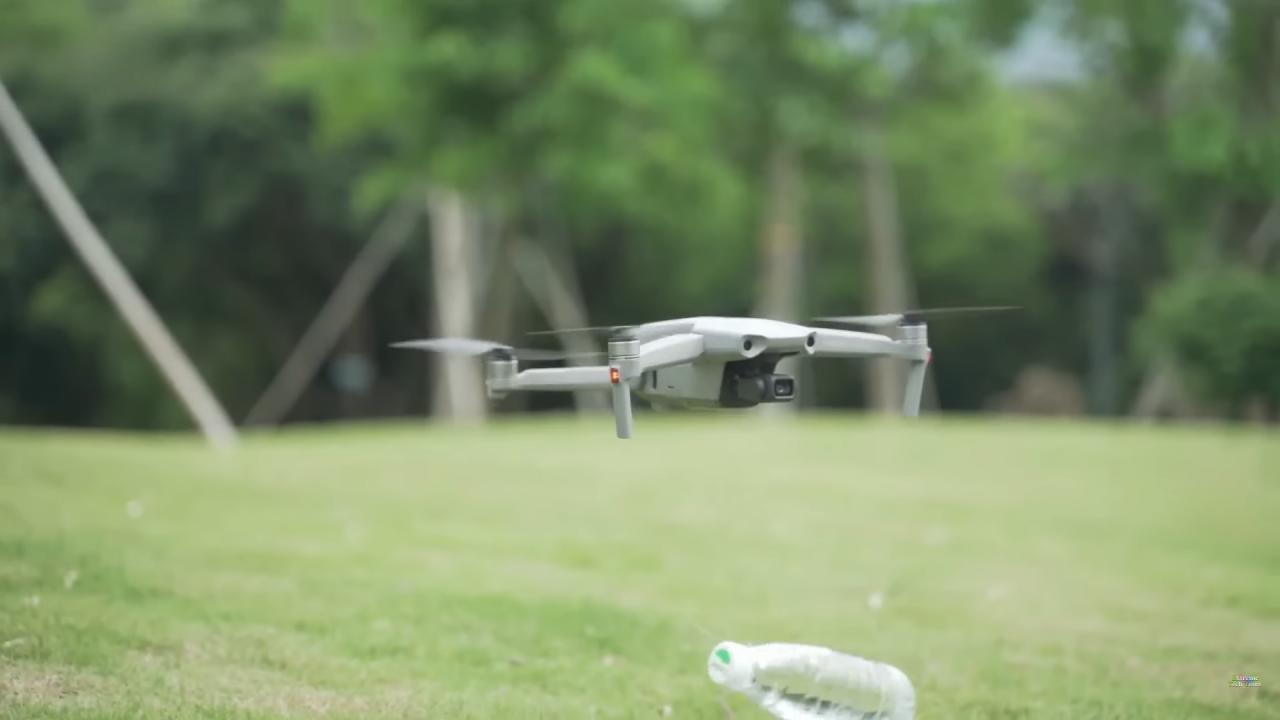Drone: (368, 293, 1038, 458)
